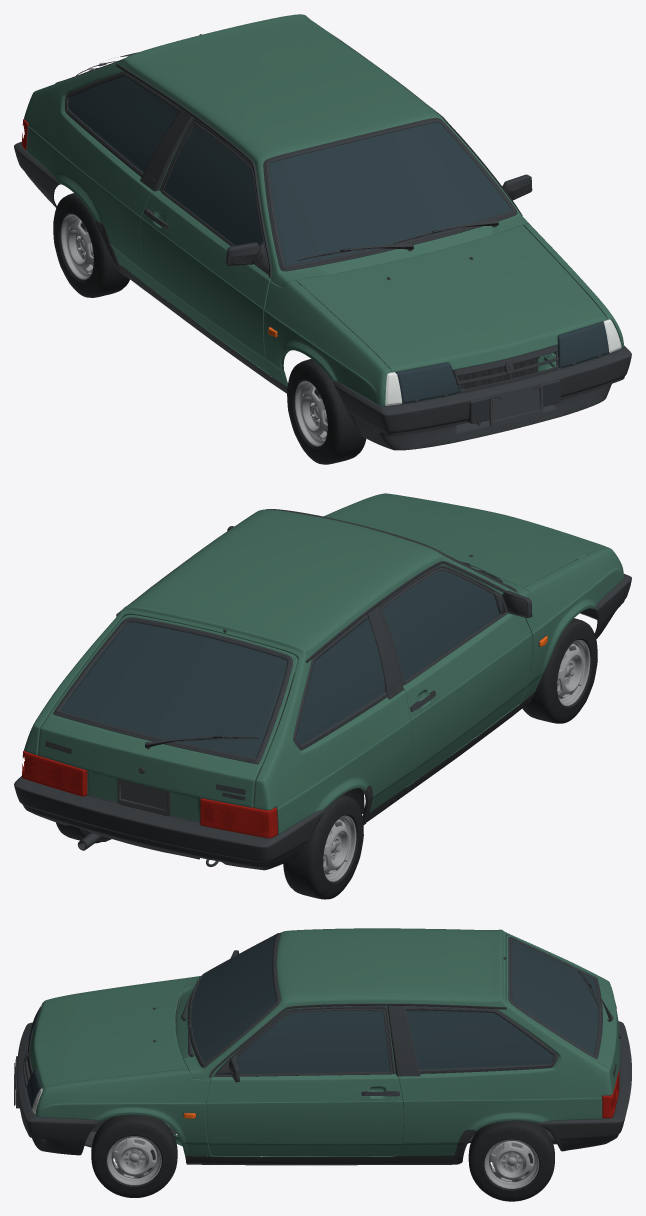
The model's file is vaz2108.glb.
3 renders of one model, top to bottom at view 1: azimuth 30°, elevation 25°; view 2: azimuth 150°, elevation 25°; view 3: azimuth 270°, elevation 25°, orthographic. The views are drawn at different scales.
Visible parts, largest first — view 1: chassisbody, glass, chassis_trim, wheel_fr, wheel_rr, headlights; view 2: chassisbody, glass, chassis_trim, wheel_rr, wheel_fr, taillights; view 3: chassisbody, glass, chassis_trim, wheel_fl, wheel_rl, taillights.
Part boxes in pixels (x1,y1,x2,y2): chassisbody: (24,14,624,406); glass: (68,76,608,403); chassis_trim: (14,23,631,450); wheel_fr: (287,359,366,464); wheel_rr: (53,193,129,297); headlights: (385,319,621,405); chassisbody: (24,493,624,834); glass: (60,570,499,758); chassis_trim: (14,509,631,870); wheel_rr: (283,794,363,899); wheel_fr: (522,618,597,723); taillights: (22,750,277,838); chassisbody: (29,928,620,1156); glass: (26,935,598,1108); chassis_trim: (14,932,631,1165); wheel_fl: (91,1115,177,1197); wheel_rl: (468,1120,554,1201); taillights: (602,1071,619,1118).
Size of the model in its own units: 1.99 by 1.49 by 4.33.
